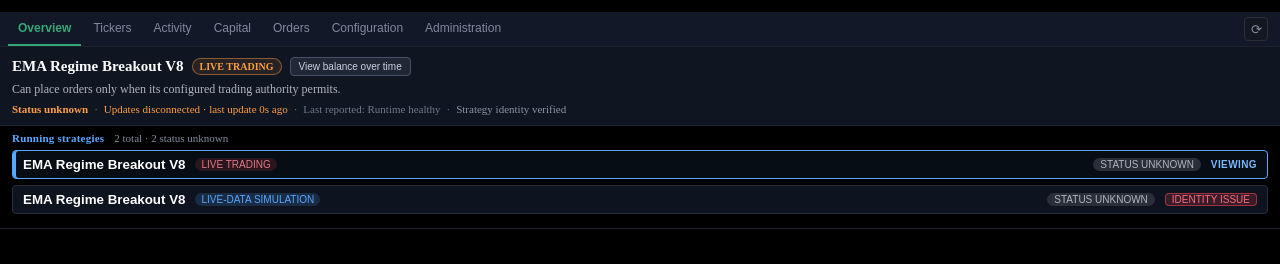
it: new-contract — Capital drilldown (server-computed wallet_allocations tree) › renders the wallet allocation tree from wallet_allocations[] — NOT marked legacy
Click the tab with class "sr-tab" showing "Capital" at coordinates (232, 29), box x1=204 y1=12 x2=261 y2=46
(page scrolled)
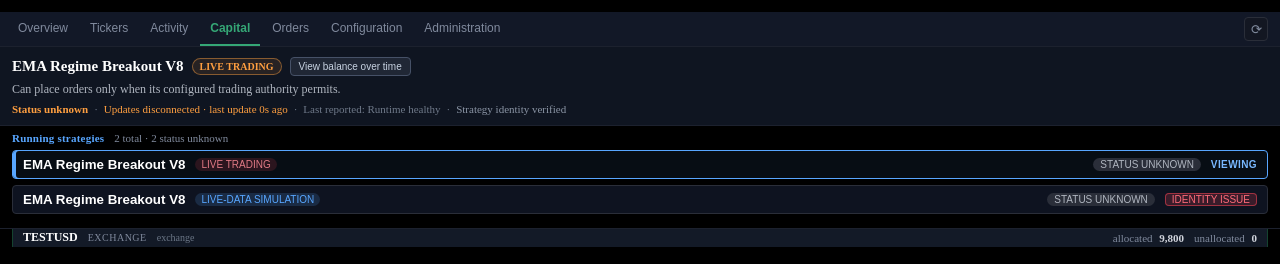
Now the element with class "sr-wallet-head" shows "9,800", box x1=1159 y1=232 x2=1184 y2=244
